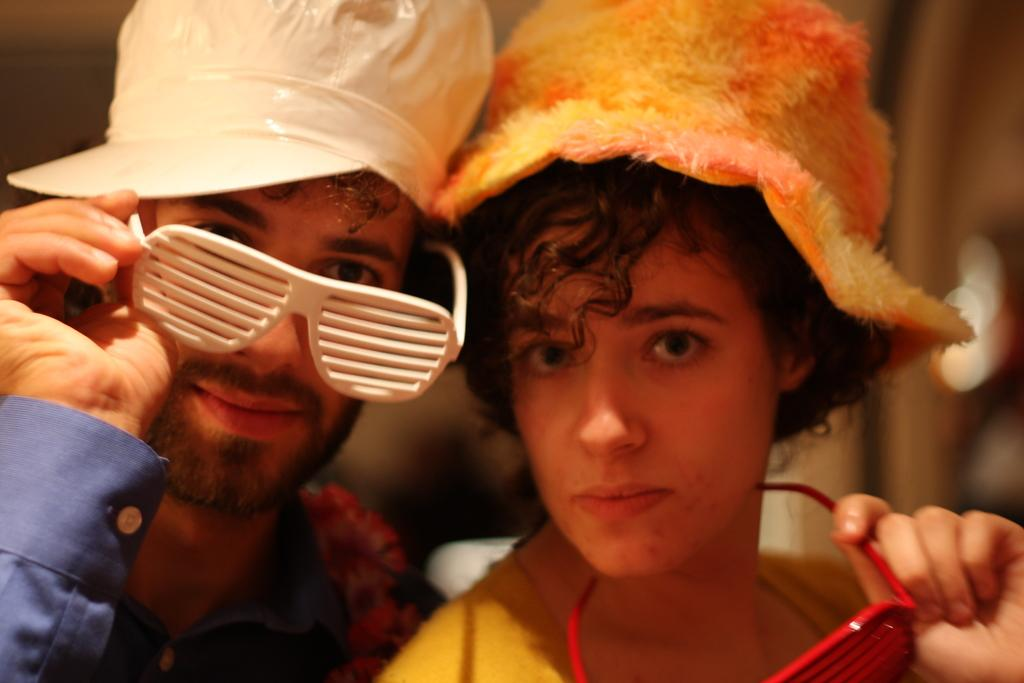Hat: (432, 0, 977, 381)
